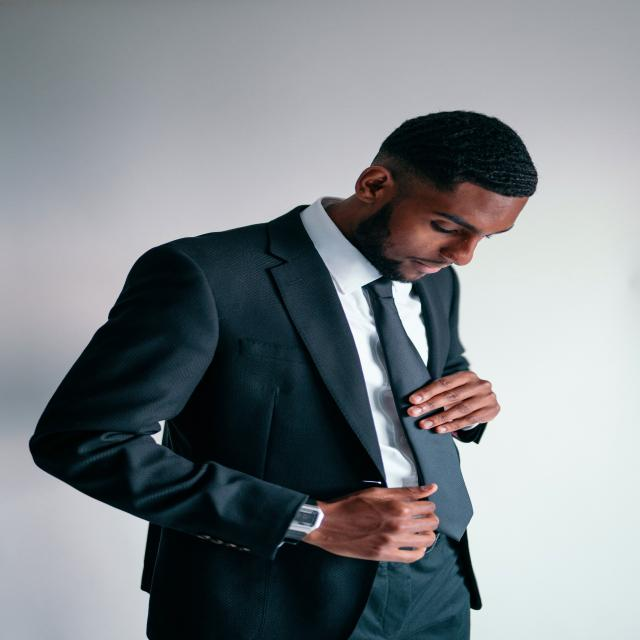adult: (25, 108, 563, 640)
